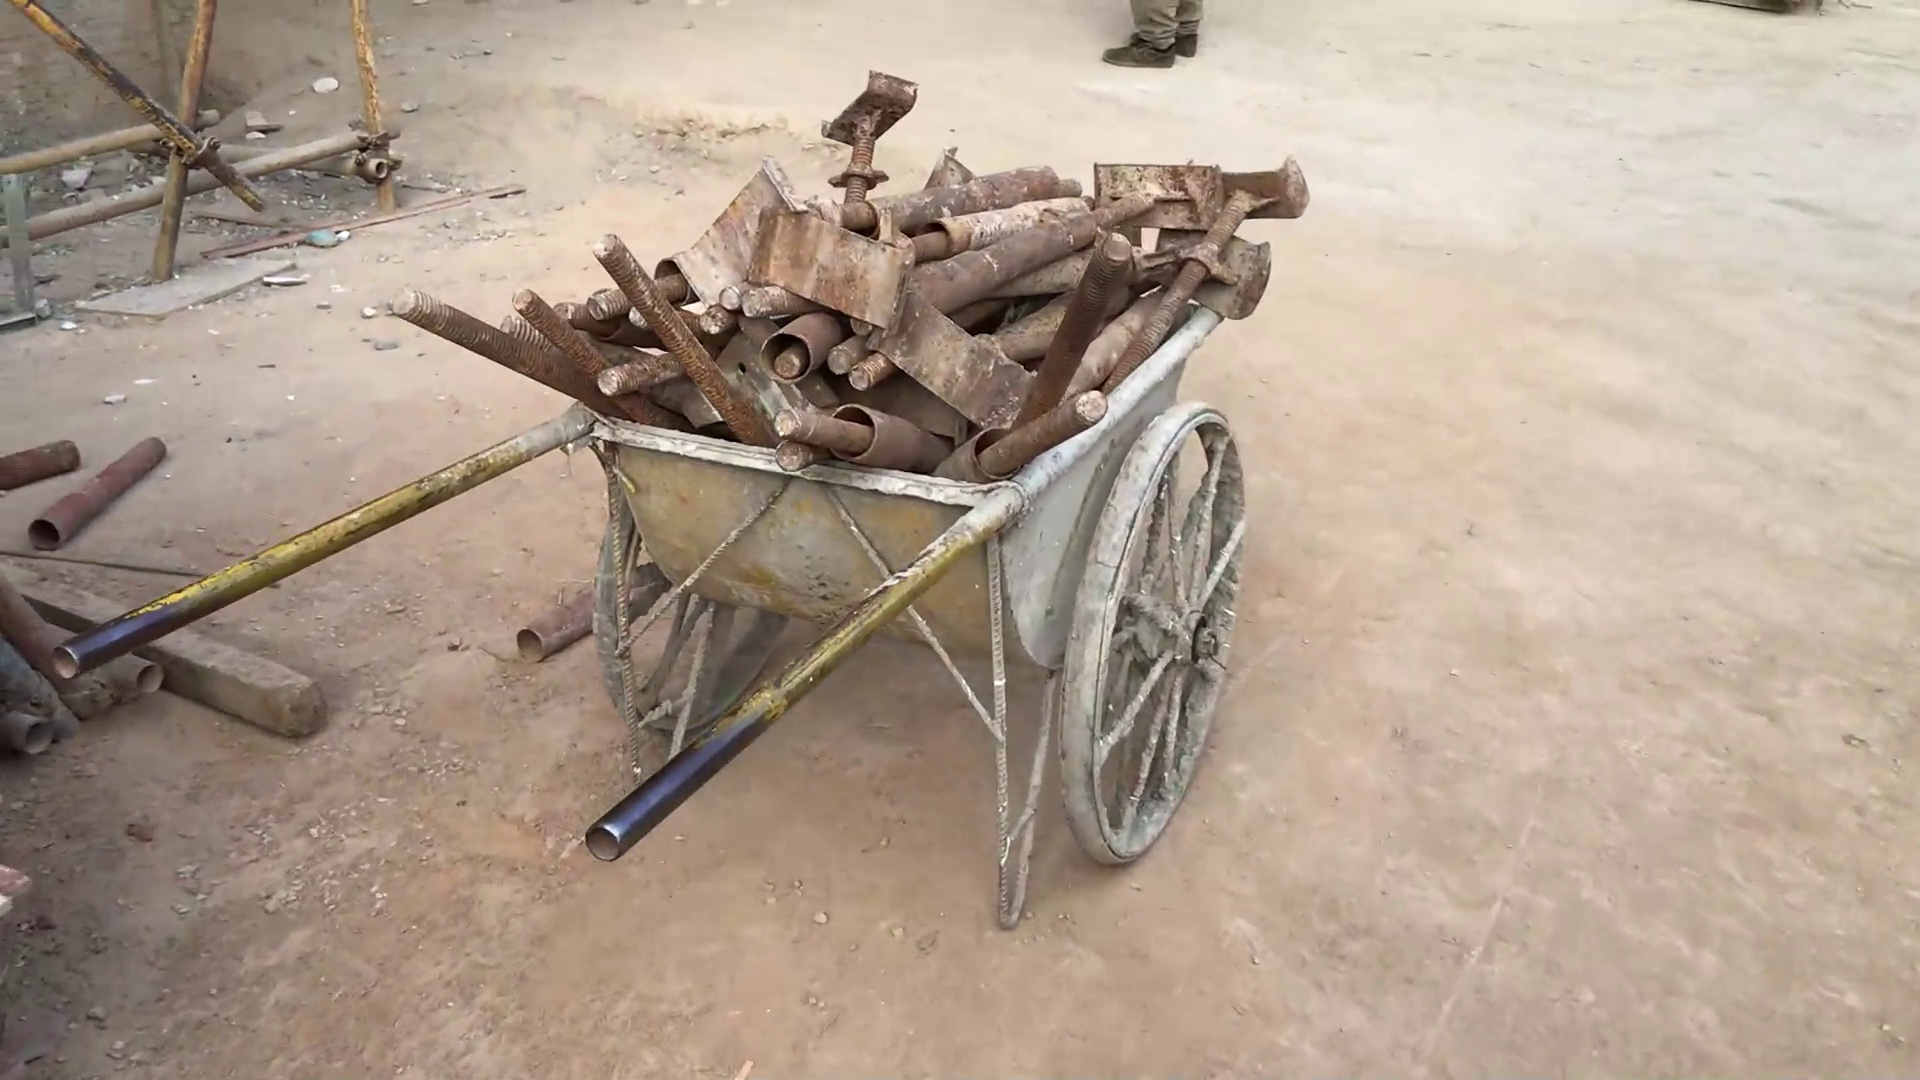handcart: (44, 287, 1280, 926)
